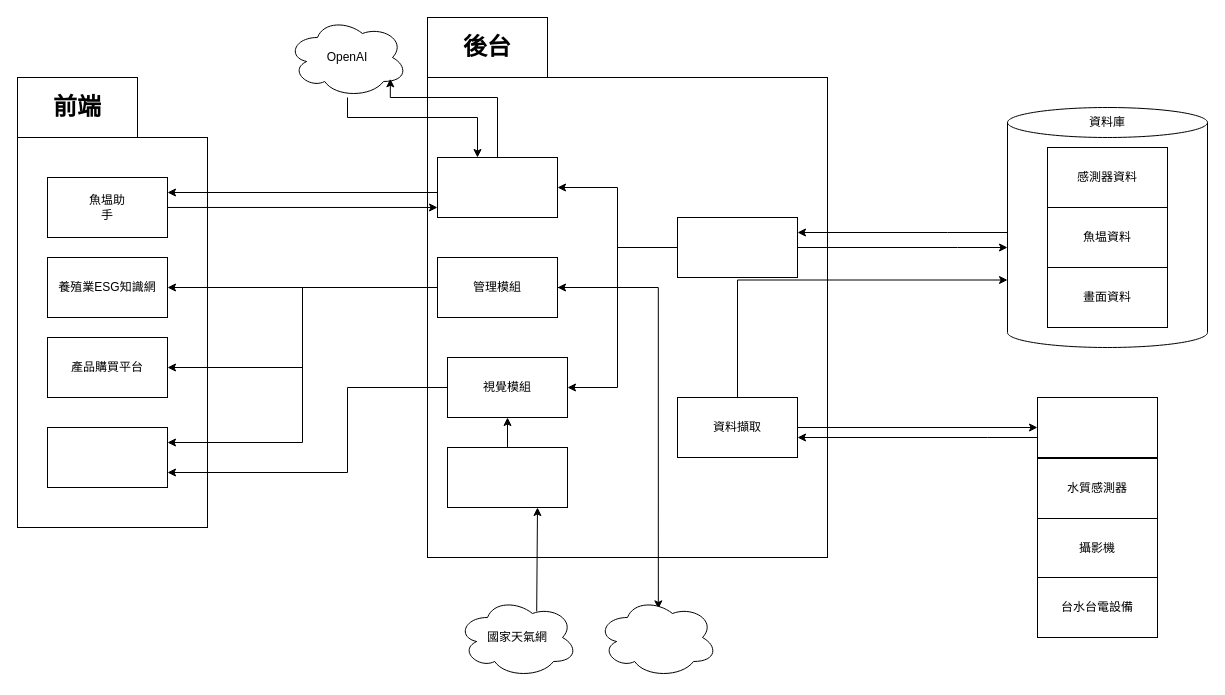
Some shapes in this 1225 by 695 pixel diagram are drawn without their labels. Each missing label, with the centre of its shape:
"AI模組 (llama-index)" belongs at (497,187).
"儀錶板" belongs at (107,457).
"天氣資料模組" belongs at (507,477).
"感測資料" belongs at (1097,427).
"漁業交易網" belongs at (657,637).
"資料處理模組" belongs at (737,247).
